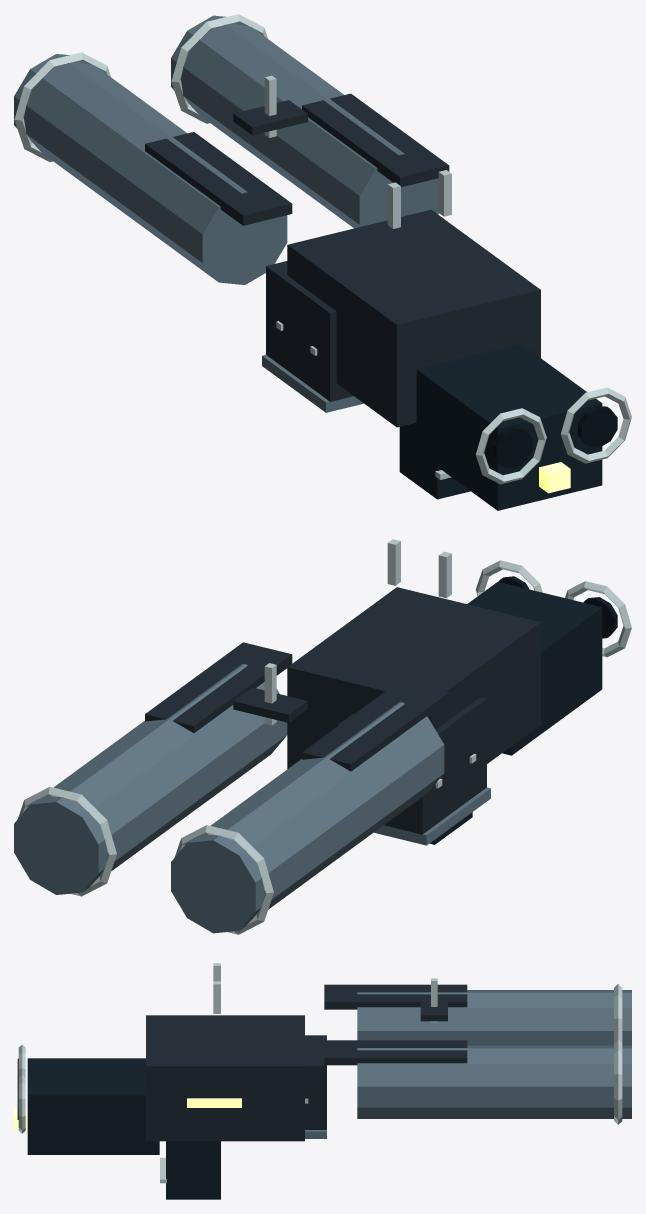
Rendered from world-3.glb.
3 views of the same model, one above another, from view 1: azimuth 30°, elevation 25°; view 2: azimuth 150°, elevation 25°; view 3: azimuth 270°, elevation 25° (orthographic). The views are drawn at different scales.
Parts seen in each view (by area): view 1: barrel-assembly-light, body-dark, body-rubber, feed-dark, body-trim, barrel-assembly-trim, body-cavity, feed-light, body-glow; view 2: barrel-assembly-light, body-dark, body-rubber, feed-dark, body-trim, barrel-assembly-trim, feed-light, body-cavity; view 3: barrel-assembly-light, body-dark, body-rubber, feed-dark, body-trim, barrel-assembly-trim, body-glow.
Part boxes in pixels (x1,y1,x2,y2): barrel-assembly-light: (14,15,438,284); body-dark: (145,93,540,427); body-rubber: (399,344,602,510); feed-dark: (266,261,353,401); body-trim: (264,75,631,484); barrel-assembly-trim: (14,14,267,161); body-cavity: (493,405,617,468); feed-light: (262,354,363,412); body-glow: (539,462,570,493); barrel-assembly-light: (14,664,444,933); body-dark: (145,587,540,771); body-rubber: (430,582,602,844); feed-dark: (337,697,486,834); body-trim: (264,539,631,725); barrel-assembly-trim: (18,787,273,934); feed-light: (374,787,490,845); body-cavity: (498,576,617,638); barrel-assembly-light: (357,990,631,1118); body-dark: (146,984,467,1141); body-rubber: (27,1058,220,1199); feed-dark: (305,1035,326,1129); body-trim: (18,963,437,1183); barrel-assembly-trim: (614,984,622,1124); body-glow: (14,1098,241,1129).
Size of the model in its own units: 0.397 by 0.4245 by 1.12.
